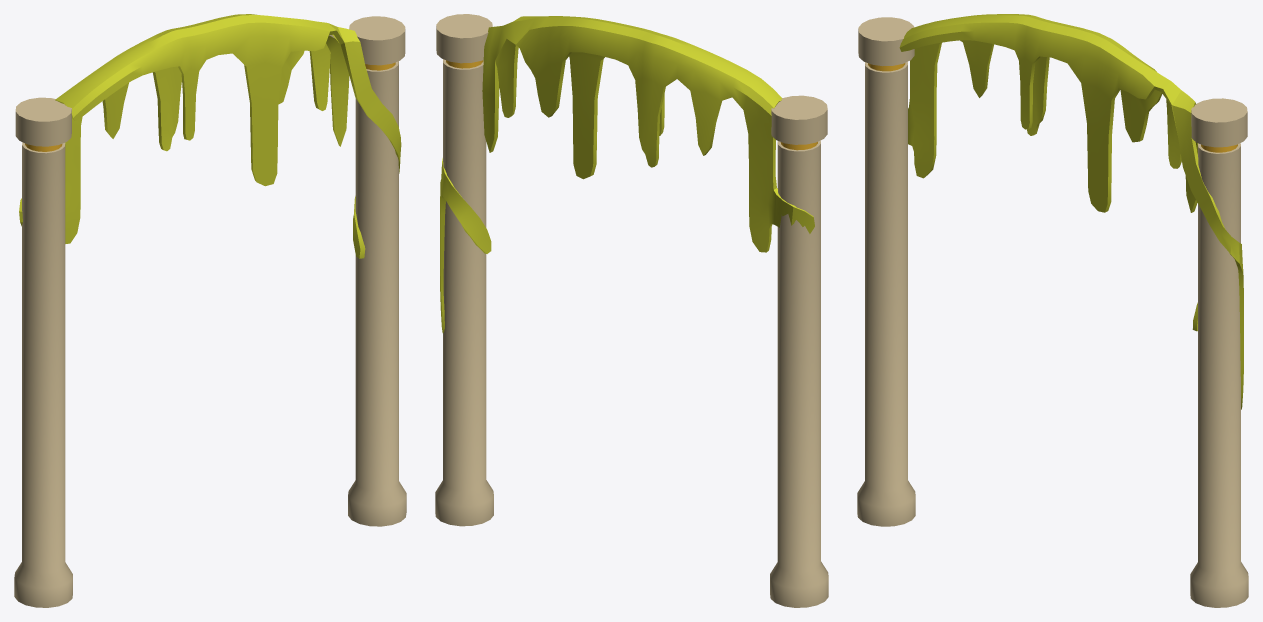
File: pillar.fbx
The picture shows the model from 3 angles, left to right: view 1: azimuth 30°, elevation 25°; view 2: azimuth 150°, elevation 25°; view 3: azimuth 330°, elevation 25°; orthographic projection.
Visible parts, largest first — view 1: Cylinder.002; view 2: Cylinder.002; view 3: Cylinder.002.
Boxes of the visible parts, <box> form: Cylinder.002: <box>14,14,406,607</box>; Cylinder.002: <box>435,14,828,607</box>; Cylinder.002: <box>857,14,1248,607</box>.
Bounding box in the file's own units: 5 × 6.56 × 0.6775.
